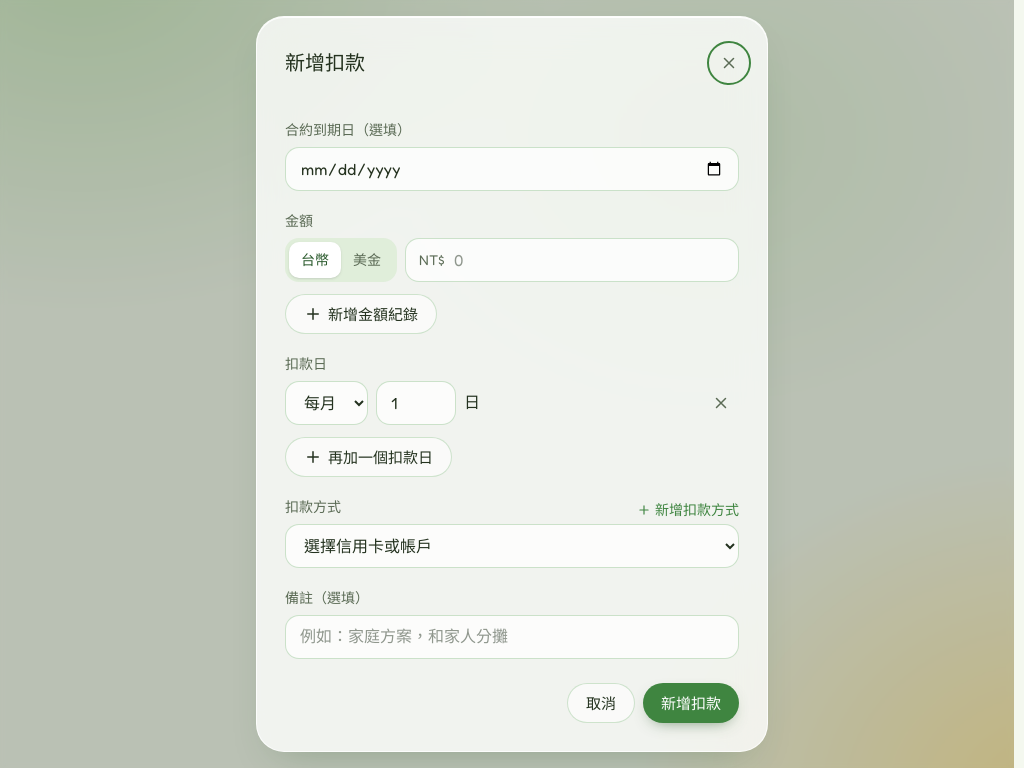
Scenario: SubscriptionFormModal › invalid input is caught before submitting
(page scrolled)
Expected: the dialog "新增扣款" is shown, x1=256 y1=16 x2=768 y2=752
Step 1. Click the button "新增扣款" → (691, 703), box x1=643 y1=683 x2=739 y2=723
(page scrolled)
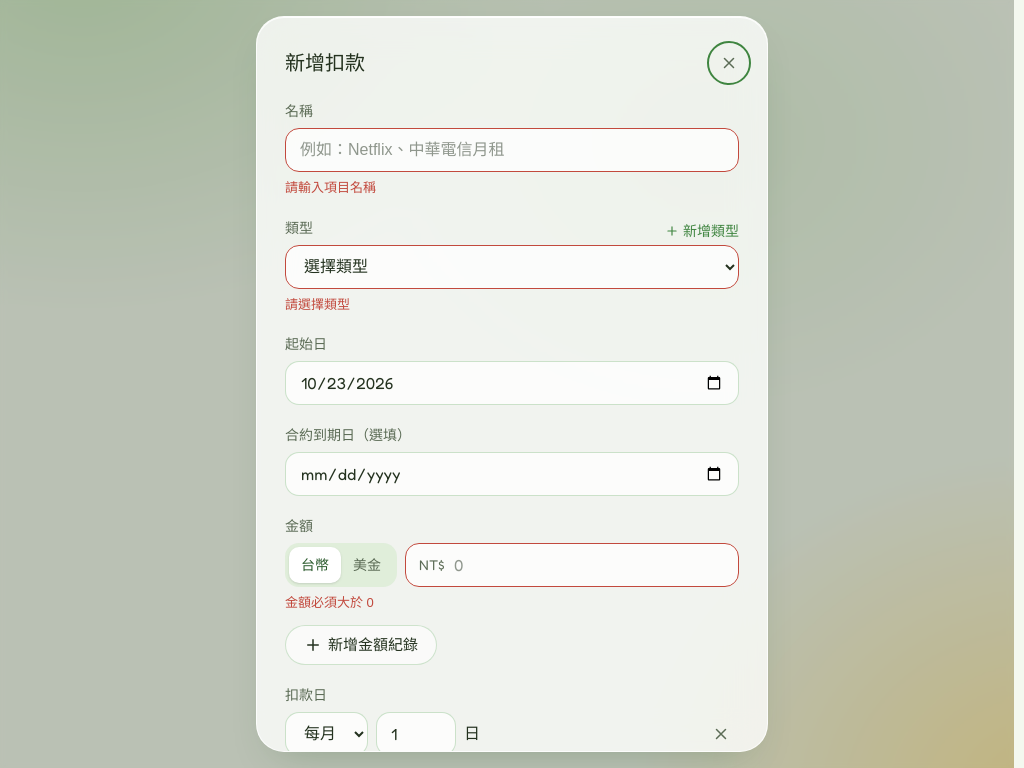
Expected: the text "請輸入項目名稱" is shown, x1=285 y1=180 x2=376 y2=195
